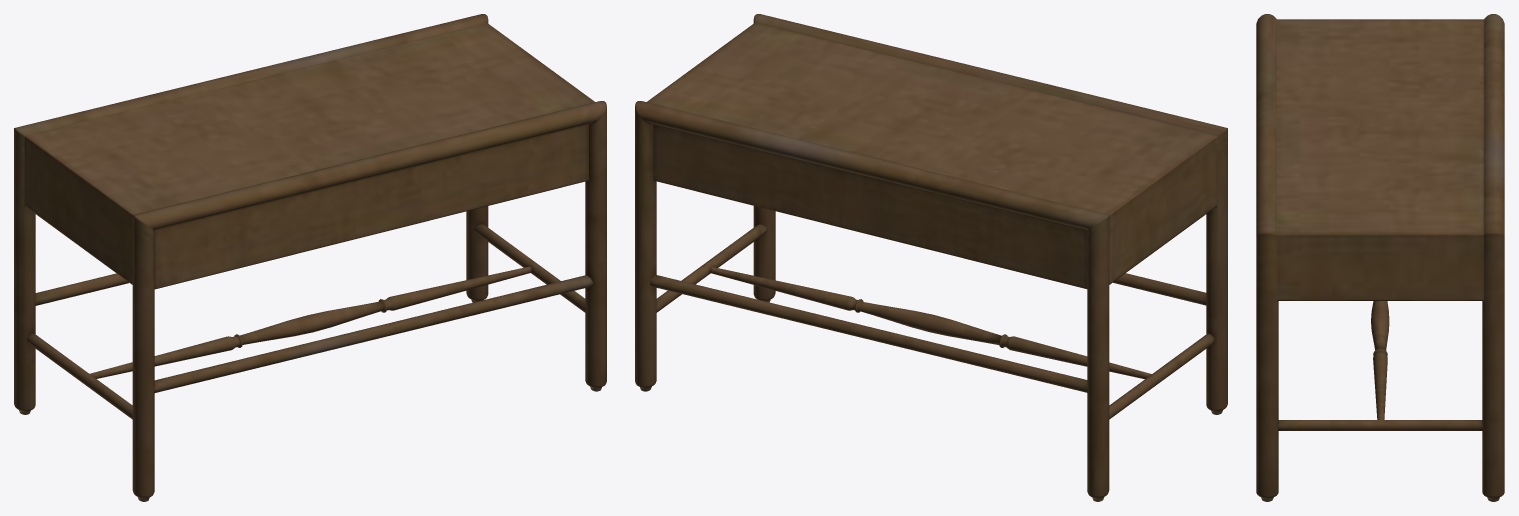
The model's file is table-small-01.lite.e52c43c0.glb.
The picture shows the model from 3 angles, left to right: view 1: azimuth 30°, elevation 25°; view 2: azimuth 150°, elevation 25°; view 3: azimuth 270°, elevation 25°; orthographic projection. The views are drawn at different scales.
Parts seen in each view (by area): view 1: model; view 2: model; view 3: model.
Boxes of the visible parts, x1,y1,x2,y2 form: model: (14, 14, 606, 501); model: (635, 14, 1227, 501); model: (1256, 14, 1504, 501).
Bounding box in the file's own units: 0.9162 × 0.5331 × 0.44.
Materials: 1 (1 with a texture image).
